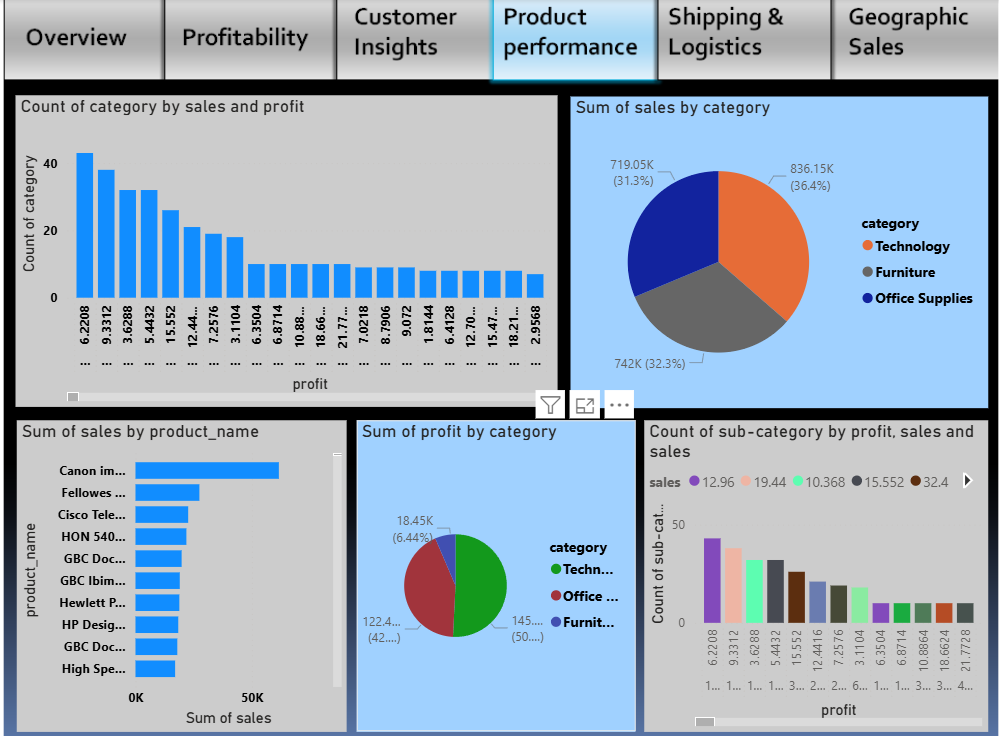

The dashboard page shown, as its layout file describes it:
{"tool":"powerbi","page":{"name":"Product performance","canvas":[1280,720],"ordinal":3},"visuals":[{"type":"actionButton","box":[794.5,0,168.8,79.6],"z":0},{"type":"actionButton","box":[955.1,0,170.2,79.6],"z":1000},{"type":"actionButton","box":[182.2,0,139.9,79.6],"z":2000},{"type":"actionButton","box":[312.9,0,168.8,79.6],"z":3000},{"type":"actionButton","box":[156.4,0,156.4,79.6],"z":4000},{"type":"columnChart","fields":{"Category":["Superstore.sales","Superstore.profit"],"Y":["CountNonNull(Superstore.category)"]},"box":[171.3,92.9,523.6,300.4],"z":4001},{"type":"columnChart","fields":{"Y":["CountNonNull(Superstore.sub-category)"],"Category":["Superstore.profit","Superstore.sales"],"Series":["Superstore.sales"]},"box":[778.2,406.6,331.8,300.4],"z":4002},{"type":"clusteredBarChart","fields":{"Y":["Sum(Superstore.sales)"],"Category":["Superstore.product_name"]},"box":[172.5,406.6,318.5,300.4],"z":4003},{"type":"pieChart","fields":{"Category":["Superstore.category"],"Y":["Sum(Superstore.sales)"]},"box":[707,94.1,403,300.4],"z":4004},{"type":"pieChart","fields":{"Category":["Superstore.category"],"Y":["Sum(Superstore.profit)"]},"box":[500.7,406.6,269,300.4],"z":4005}]}

Visuals, with their boxes on the page's 1280x720 design canvas (x1, y1, x2, y2). These are canvas units, not pixel positions in the 999x736 screenshot, which may show the page scaled, cropped or inside an application window:
actionButton: x1=794 y1=0 x2=963 y2=80
actionButton: x1=955 y1=0 x2=1125 y2=80
actionButton: x1=182 y1=0 x2=322 y2=80
actionButton: x1=313 y1=0 x2=482 y2=80
actionButton: x1=156 y1=0 x2=313 y2=80
columnChart - Superstore.sales x Superstore.profit: x1=171 y1=93 x2=695 y2=393
columnChart - CountNonNull(Superstore.sub-category) x Superstore.profit: x1=778 y1=407 x2=1110 y2=707
clusteredBarChart - Sum(Superstore.sales) x Superstore.product_name: x1=172 y1=407 x2=491 y2=707
pieChart - Superstore.category x Sum(Superstore.sales): x1=707 y1=94 x2=1110 y2=394
pieChart - Superstore.category x Sum(Superstore.profit): x1=501 y1=407 x2=770 y2=707
